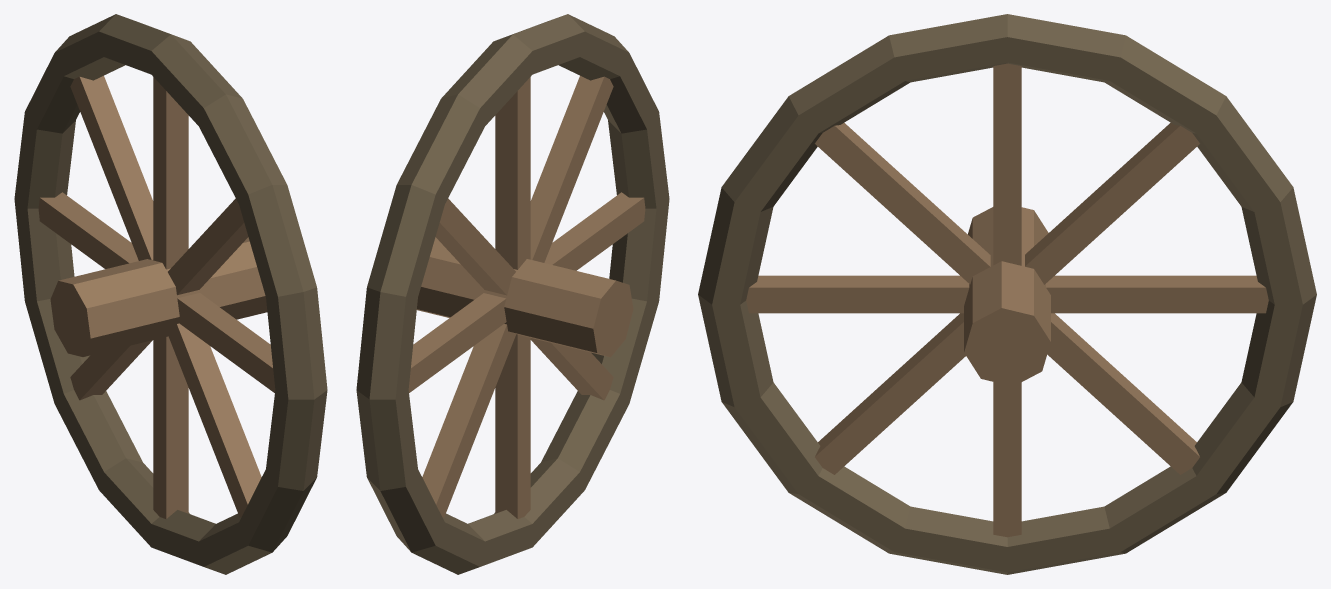
File: qc_wagon_wheel.obj
3 renders of one model, left to right at view 1: azimuth 30°, elevation 25°; view 2: azimuth 150°, elevation 25°; view 3: azimuth 270°, elevation 25°, orthographic. The views are drawn at different scales.
Visible parts, largest first — view 1: qc_wagon_wheel; view 2: qc_wagon_wheel; view 3: qc_wagon_wheel.
Boxes of the visible parts, x1=… form: qc_wagon_wheel: x1=14, y1=14, x2=327, y2=574; qc_wagon_wheel: x1=356, y1=14, x2=669, y2=574; qc_wagon_wheel: x1=698, y1=14, x2=1316, y2=574.
Size of the model in its own units: 0.4 by 0.99 by 0.99.
